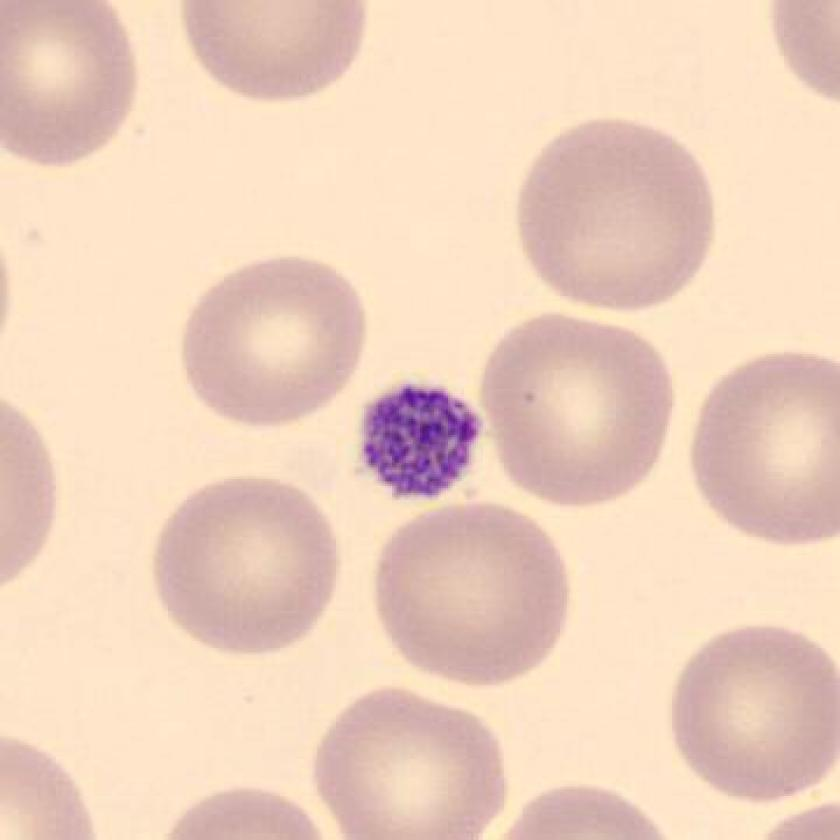platelets: (351, 367, 491, 515)
